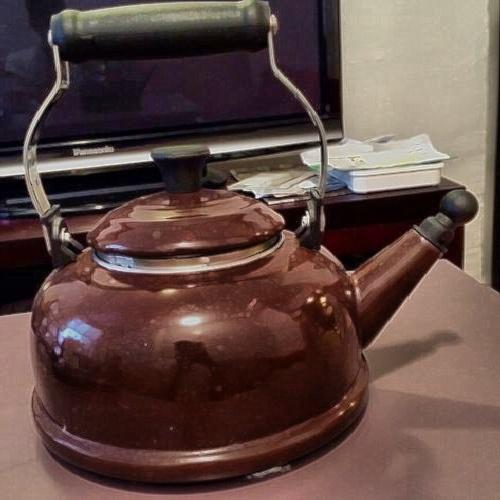kettle: (23, 100, 467, 459)
